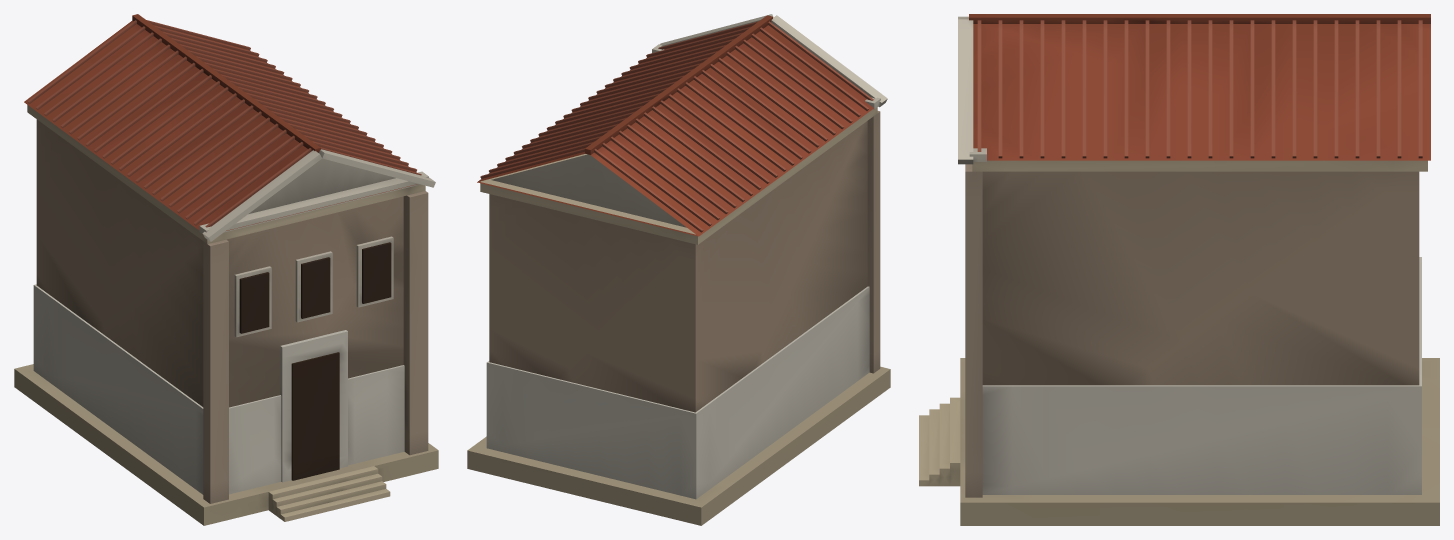
Rendered from curia-hostilia.glb.
3 renders of one model, left to right at view 1: azimuth 30°, elevation 25°; view 2: azimuth 150°, elevation 25°; view 3: azimuth 270°, elevation 25°, orthographic. The views are drawn at different scales.
Parts seen in each view (by area): view 1: p1_walls, p2_roof, p0_podium; view 2: p1_walls, p2_roof, p0_podium; view 3: p1_walls, p2_roof, p0_podium.
Part boxes in pixels (x1,y1,x2,y2): p1_walls: (27,105,428,503); p2_roof: (24,14,435,241); p0_podium: (14,364,438,525); p1_walls: (480,107,880,499); p2_roof: (477,14,887,236); p0_podium: (467,366,890,525); p1_walls: (965,160,1427,497); p2_roof: (958,14,1430,164); p0_podium: (919,358,1439,525).
Bounding box in the file's own units: 20 × 28.2 × 30.4.
